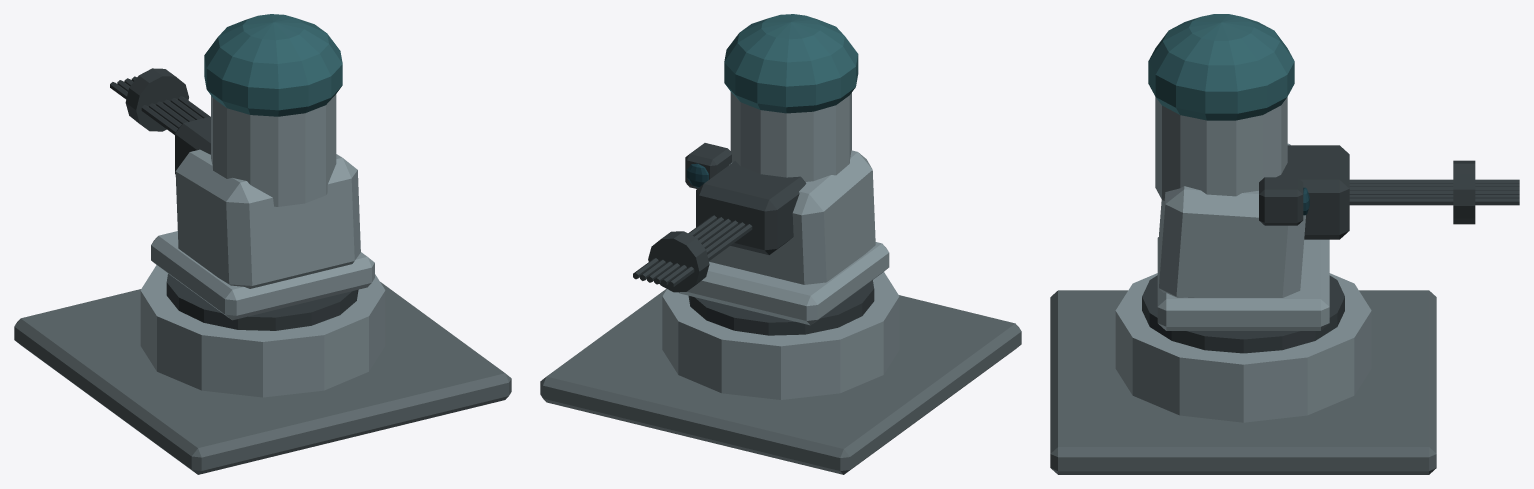
File: MOD_CIWS_before_2026-09-27.fbx
The picture shows the model from 3 angles, left to right: view 1: azimuth 30°, elevation 25°; view 2: azimuth 150°, elevation 25°; view 3: azimuth 270°, elevation 25°; orthographic projection. The views are drawn at different scales.
Parts seen in each view (by area): view 1: ModuleDeck, CIWSFixedBase, CIWSUpperBody, TrackingRadome, MagazineDrum, YawPlatform, CIWSFixedBearing, BarrelClamp, GunCradle; view 2: ModuleDeck, CIWSFixedBase, TrackingRadome, CIWSUpperBody, MagazineDrum, YawPlatform, GunCradle, CIWSFixedBearing, BarrelClamp, FLIRPod, CIWSBarrel_01; view 3: ModuleDeck, CIWSFixedBase, CIWSUpperBody, TrackingRadome, MagazineDrum, YawPlatform, GunCradle, CIWSFixedBearing, FLIRPod, BarrelClamp, CIWSBarrel_06, CIWSBarrel_04 (+4 smaller).
Part boxes in pixels (x1=…): ModuleDeck: x1=14, y1=282, x2=511, y2=474; CIWSFixedBase: x1=140, y1=265, x2=385, y2=397; CIWSUpperBody: x1=175, y1=149, x2=360, y2=288; TrackingRadome: x1=204, y1=14, x2=342, y2=116; MagazineDrum: x1=211, y1=94, x2=336, y2=206; YawPlatform: x1=151, y1=231, x2=374, y2=320; CIWSFixedBearing: x1=166, y1=273, x2=358, y2=330; BarrelClamp: x1=125, y1=68, x2=188, y2=131; GunCradle: x1=175, y1=116, x2=210, y2=174; ModuleDeck: x1=540, y1=288, x2=1021, y2=474; CIWSFixedBase: x1=662, y1=272, x2=899, y2=399; TrackingRadome: x1=724, y1=14, x2=858, y2=113; CIWSUpperBody: x1=709, y1=150, x2=875, y2=284; MagazineDrum: x1=730, y1=92, x2=851, y2=181; YawPlatform: x1=679, y1=242, x2=889, y2=325; GunCradle: x1=696, y1=161, x2=806, y2=254; CIWSFixedBearing: x1=688, y1=280, x2=874, y2=335; BarrelClamp: x1=648, y1=231, x2=709, y2=292; FLIRPod: x1=685, y1=143, x2=731, y2=188; CIWSBarrel_01: x1=668, y1=224, x2=752, y2=287; ModuleDeck: x1=1050, y1=290, x2=1436, y2=474; CIWSFixedBase: x1=1115, y1=273, x2=1371, y2=422; CIWSUpperBody: x1=1159, y1=143, x2=1305, y2=297; TrackingRadome: x1=1148, y1=14, x2=1294, y2=120; MagazineDrum: x1=1155, y1=97, x2=1287, y2=200; YawPlatform: x1=1157, y1=237, x2=1329, y2=330; GunCradle: x1=1276, y1=145, x2=1349, y2=239; CIWSFixedBearing: x1=1142, y1=275, x2=1344, y2=353; FLIRPod: x1=1259, y1=177, x2=1303, y2=225; BarrelClamp: x1=1453, y1=160, x2=1475, y2=224; CIWSBarrel_06: x1=1349, y1=198, x2=1519, y2=205; CIWSBarrel_04: x1=1349, y1=190, x2=1519, y2=194.
Bounding box in the file's own units: 175 × 187 × 213.
